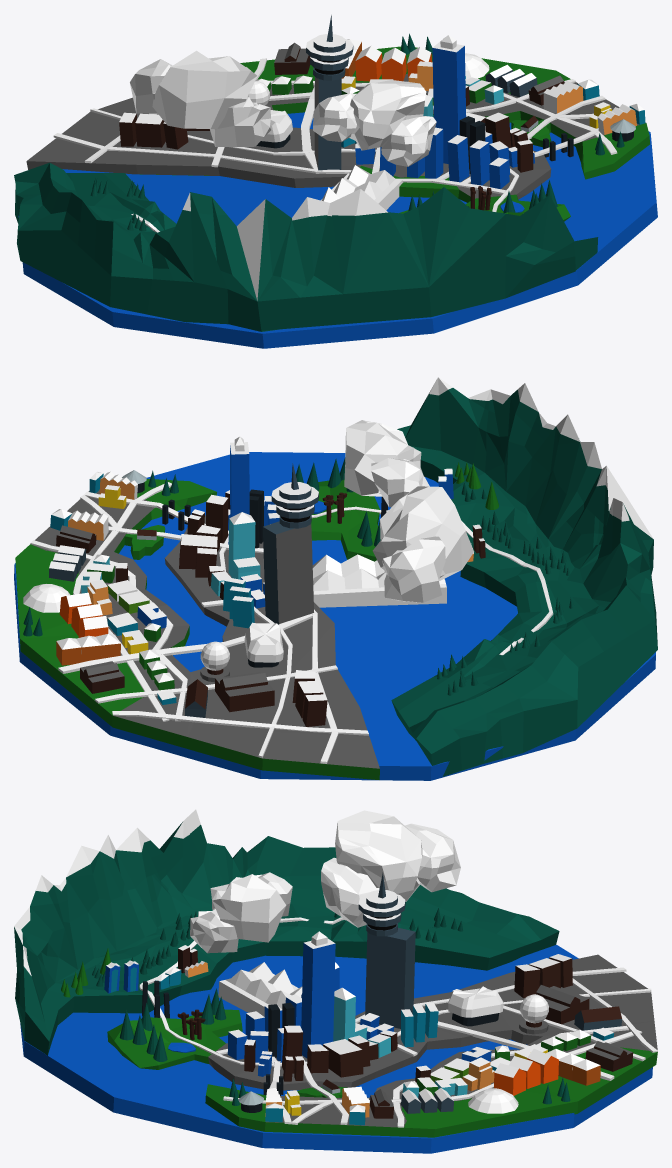
Rendered from map.obj.
3 renders of one model, top to bottom at view 1: azimuth 30°, elevation 25°; view 2: azimuth 150°, elevation 25°; view 3: azimuth 270°, elevation 25°, orthographic.
Visible parts, largest first — view 1: group1971097135, group1926126815, group1656777012, group1550195885, group197357736, group918087620, group1385259583, group1602713423, group1334676454, group644830360, group664967870, group1802490509 (+23 smaller); view 2: group1971097135, group1656777012, group1926126815, group918087620, group1550195885, group664967870, group197357736, group465555899, group62122215, group1518361734, group1802490509, group592530000 (+23 smaller); view 3: group1971097135, group1926126815, group1656777012, group918087620, group1550195885, group1385259583, group197357736, group664967870, group1602713423, group465555899, group700178591, group1334676454 (+26 smaller).
Part boxes in pixels (x1=…): group1971097135: x1=14, y1=162, x2=598, y2=331; group1926126815: x1=18, y1=112, x2=657, y2=348; group1656777012: x1=26, y1=46, x2=649, y2=221; group1550195885: x1=152, y1=50, x2=257, y2=128; group197357736: x1=349, y1=80, x2=426, y2=150; group918087620: x1=306, y1=15, x2=353, y2=170; group1385259583: x1=432, y1=35, x2=466, y2=163; group1602713423: x1=210, y1=97, x2=271, y2=146; group1334676454: x1=381, y1=115, x2=436, y2=166; group644830360: x1=53, y1=133, x2=506, y2=194; group664967870: x1=321, y1=165, x2=402, y2=210; group1802490509: x1=313, y1=93, x2=356, y2=142; group1971097135: x1=391, y1=377, x2=657, y2=776; group1656777012: x1=15, y1=479, x2=379, y2=780; group1926126815: x1=14, y1=452, x2=655, y2=780; group918087620: x1=263, y1=463, x2=318, y2=624; group1550195885: x1=372, y1=486, x2=473, y2=581; group664967870: x1=312, y1=554, x2=446, y2=607; group197357736: x1=344, y1=420, x2=421, y2=496; group465555899: x1=382, y1=536, x2=445, y2=602; group62122215: x1=219, y1=506, x2=553, y2=758; group1518361734: x1=215, y1=672, x2=274, y2=712; group1802490509: x1=371, y1=458, x2=429, y2=507; group592530000: x1=228, y1=512, x2=260, y2=579; group1971097135: x1=14, y1=809, x2=559, y2=1055; group1926126815: x1=20, y1=945, x2=652, y2=1153; group1656777012: x1=107, y1=954, x2=657, y2=1137; group918087620: x1=358, y1=872, x2=415, y2=1028; group1550195885: x1=335, y1=810, x2=422, y2=901; group1385259583: x1=301, y1=931, x2=335, y2=1058; group197357736: x1=210, y1=874, x2=286, y2=942; group664967870: x1=218, y1=962, x2=302, y2=1016; group1602713423: x1=321, y1=857, x2=379, y2=927; group465555899: x1=405, y1=823, x2=460, y2=892; group700178591: x1=448, y1=986, x2=503, y2=1026; group1334676454: x1=190, y1=909, x2=238, y2=953.
Bounding box in the file's own units: 2.94 × 1.01 × 2.97.
